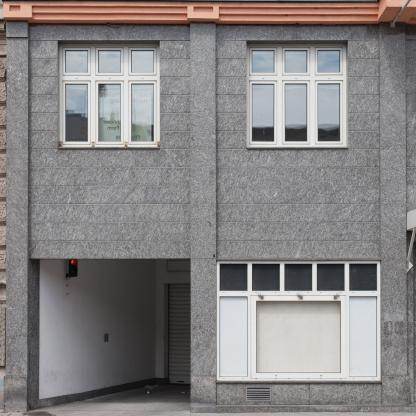Building Outline: (2, 0, 416, 414)
Door: (28, 259, 190, 412), (168, 284, 190, 384)
Facade: (3, 0, 416, 413)
Floor: (6, 0, 416, 204)
Floor Slab: (6, 204, 416, 214)
Ground Floor: (7, 213, 415, 413)
Molding: (2, 0, 416, 24)
Pillar: (380, 22, 406, 411), (191, 22, 216, 411), (6, 21, 28, 412)
Window: (216, 262, 380, 381), (60, 44, 159, 146), (248, 43, 347, 145)
